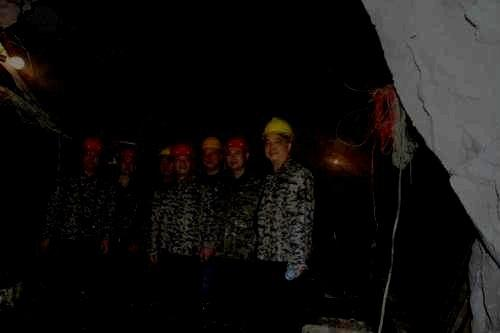helmet: (262, 116, 292, 161), (113, 136, 136, 172), (225, 138, 250, 169), (200, 137, 221, 169), (81, 137, 100, 170), (172, 144, 192, 173), (157, 147, 171, 175)
